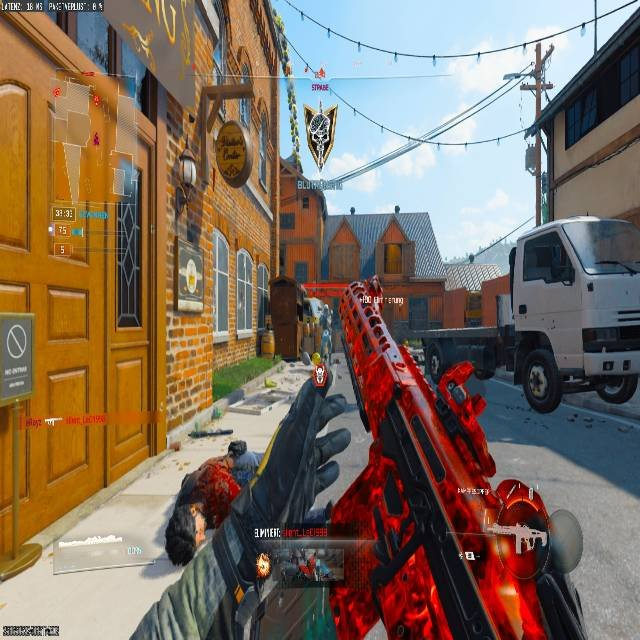player: (314, 302, 338, 357)
